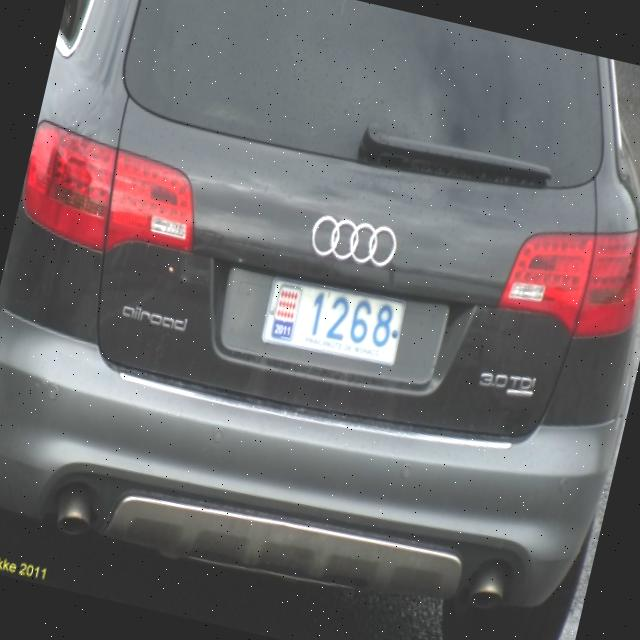Autre: (253, 274, 409, 374)
